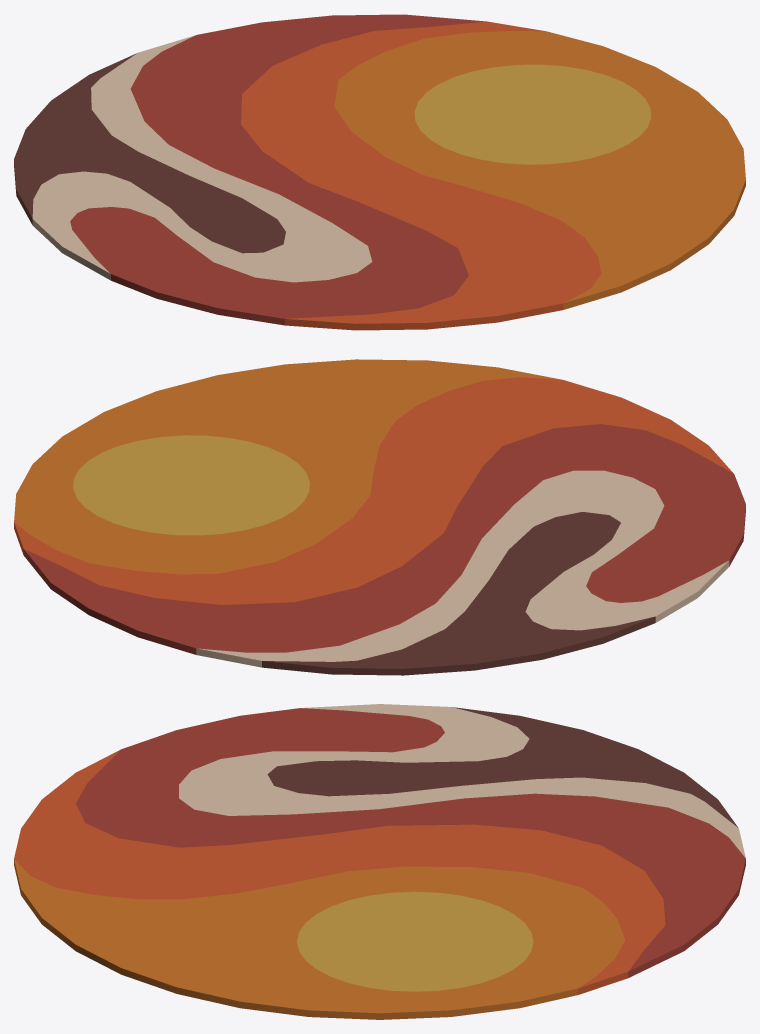
File: Circular Rug.fbx
3 views of the same model, one above another, from view 1: azimuth 30°, elevation 25°; view 2: azimuth 150°, elevation 25°; view 3: azimuth 270°, elevation 25° (orthographic).
Parts seen in each view (by area): view 1: Circle.008; view 2: Circle.008; view 3: Circle.008.
Part boxes in pixels (<box>): Circle.008: <box>14,14,745,330</box>; Circle.008: <box>14,359,745,675</box>; Circle.008: <box>14,704,745,1019</box>.
Size of the model in its own units: 10000 by 10000 by 100.
